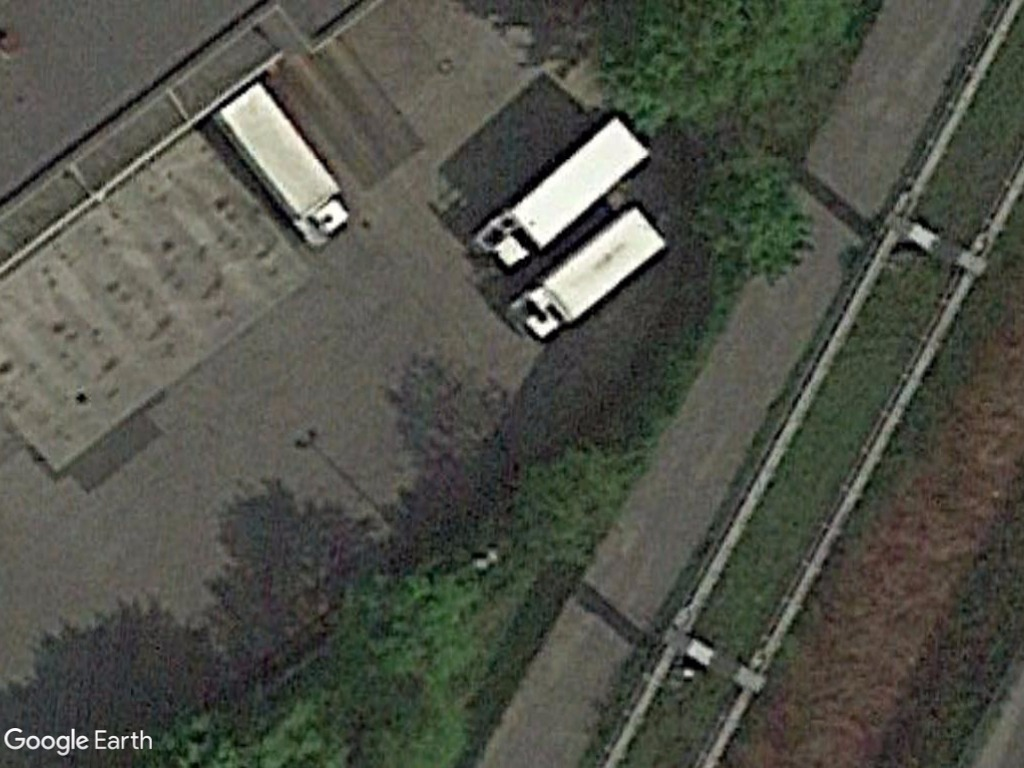truck: (472, 118, 659, 276), (498, 198, 667, 344), (213, 75, 354, 248)
